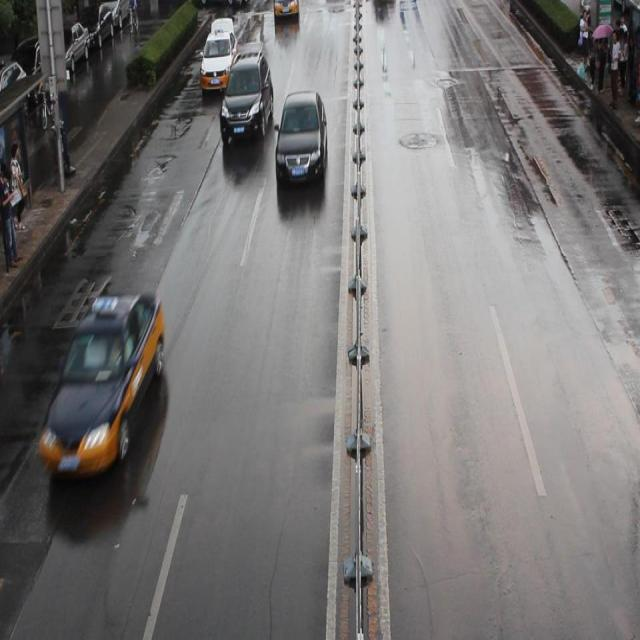car: (39, 293, 165, 481), (274, 90, 326, 186), (219, 51, 273, 142), (200, 30, 238, 93), (273, 1, 299, 22), (372, 1, 396, 6)
